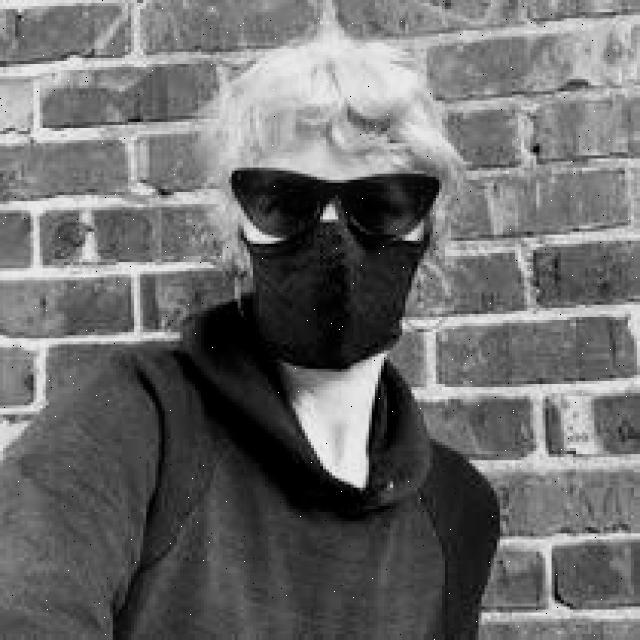fake: (209, 200, 450, 368), (226, 155, 443, 254)
